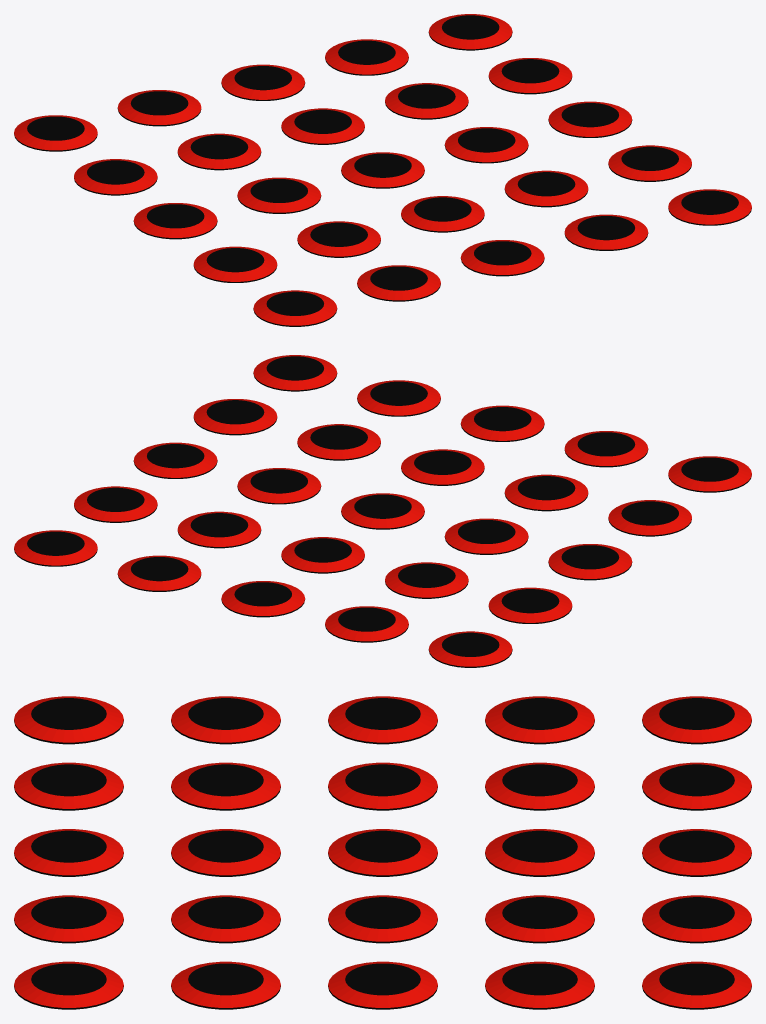
Rendered from Fire.fbx.
The picture shows the model from 3 angles, top to bottom: view 1: azimuth 30°, elevation 25°; view 2: azimuth 150°, elevation 25°; view 3: azimuth 270°, elevation 25°; orthographic projection. The views are drawn at different scales.
Parts seen in each view (by area): view 1: Cylinder.010; view 2: Cylinder.010; view 3: Cylinder.010.
Boxes of the visible parts, left/top/right/bottom form: Cylinder.010: left=14, top=14, right=751, bottom=326; Cylinder.010: left=14, top=355, right=751, bottom=667; Cylinder.010: left=14, top=696, right=751, bottom=1009.
Size of the model in its own units: 93.92 by 1 by 94.
